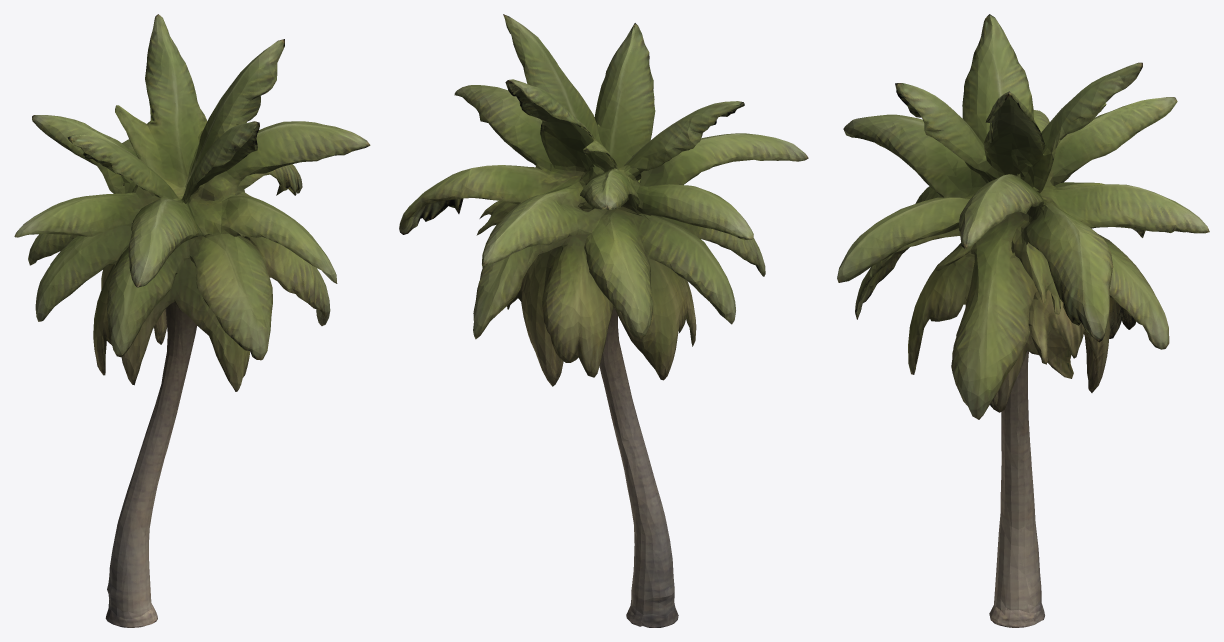
File: coconut_tree1.glb
The picture shows the model from 3 angles, left to right: view 1: azimuth 30°, elevation 25°; view 2: azimuth 150°, elevation 25°; view 3: azimuth 270°, elevation 25°; orthographic projection. The views are drawn at different scales.
Parts seen in each view (by area): view 1: world; view 2: world; view 3: world.
Boxes of the visible parts, x1,y1,x2,y2 form: world: (14,14,370,627); world: (399,14,808,627); world: (837,14,1209,627).
Size of the model in its own units: 0.6171 by 0.9967 by 0.5593.
Materials: 1 (1 with a texture image).
